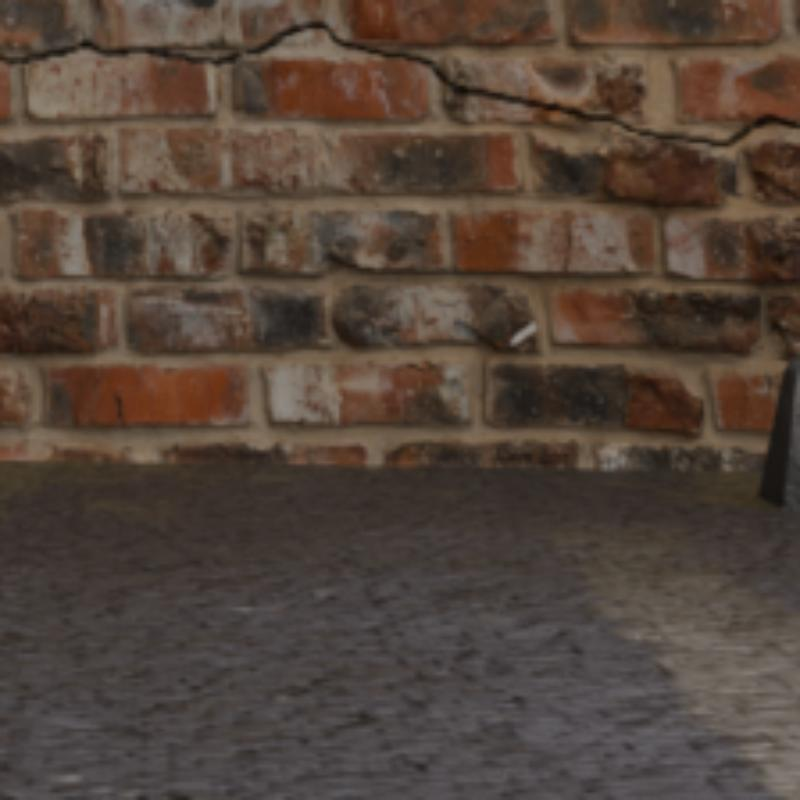crack: (0, 21, 796, 143)
